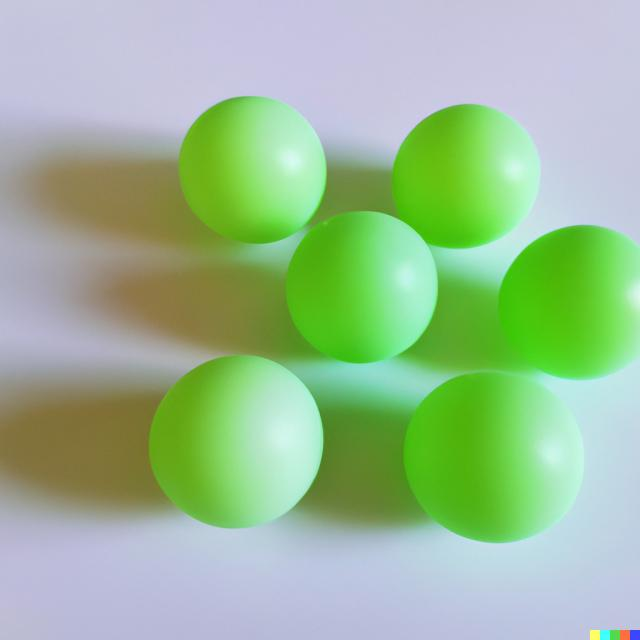green-golf-balls: (404, 373, 586, 544), (150, 355, 324, 530), (286, 210, 438, 364), (498, 222, 640, 380), (179, 94, 327, 244), (390, 104, 542, 250)
